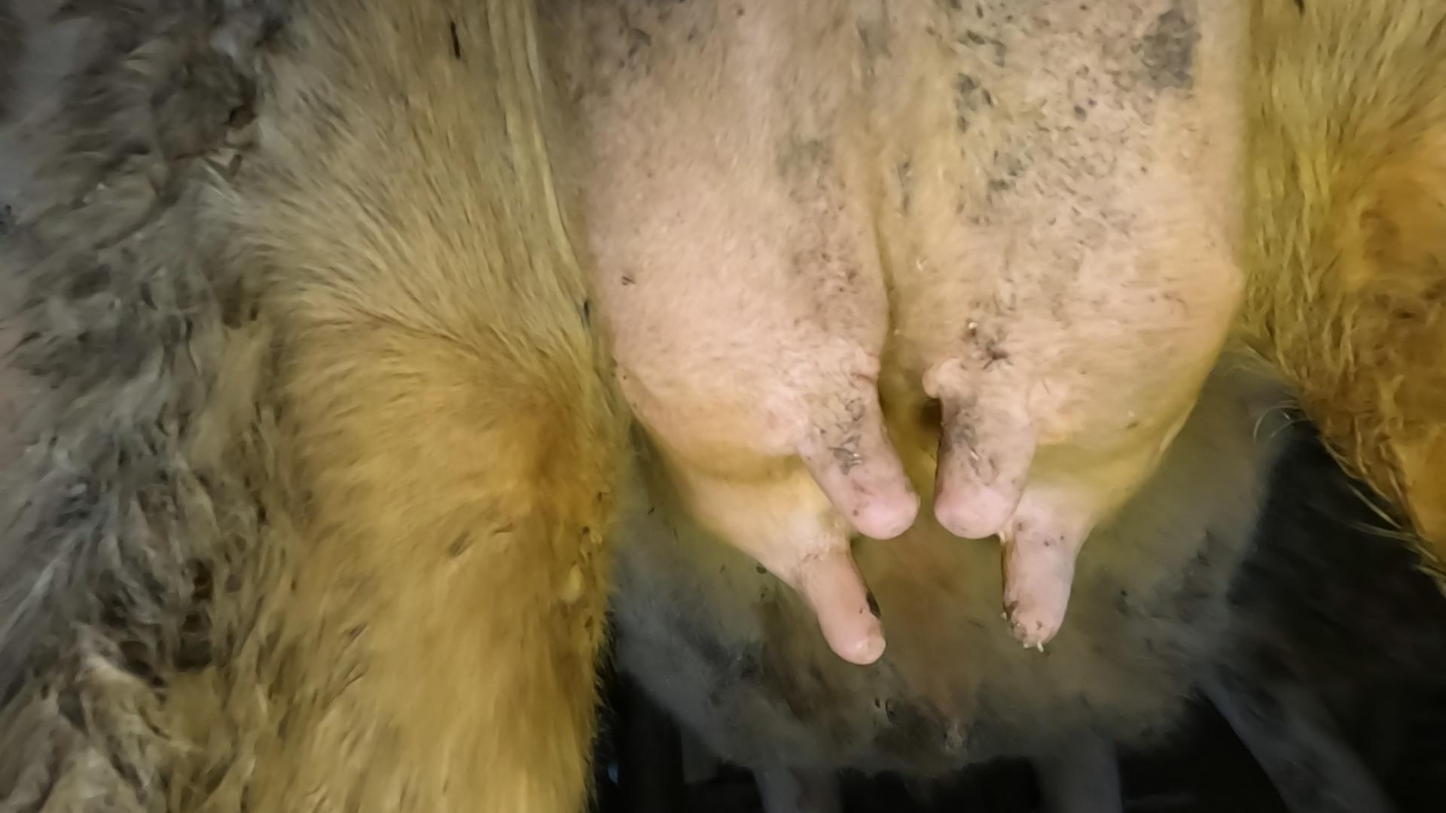Zitze: (921, 396, 1054, 546), (824, 374, 923, 573), (985, 507, 1095, 647), (810, 533, 890, 687)
